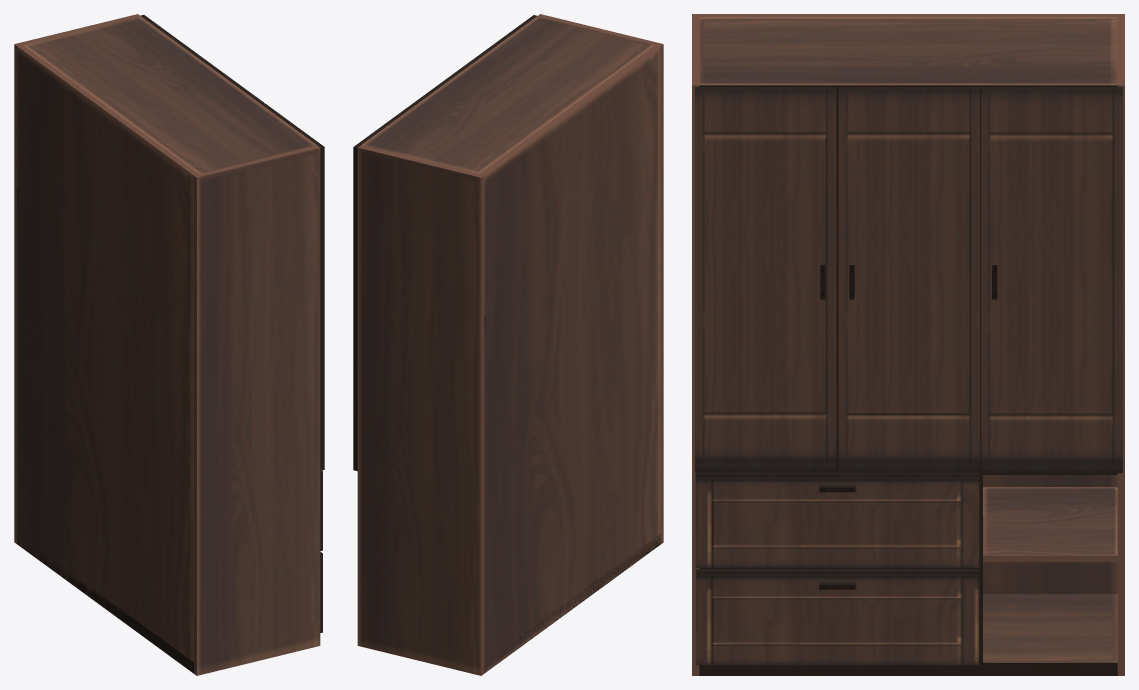
Rendered from closet.fbx.
3 renders of one model, left to right at view 1: azimuth 30°, elevation 25°; view 2: azimuth 150°, elevation 25°; view 3: azimuth 270°, elevation 25°, orthographic. The views are drawn at different scales.
Visible parts, largest first — view 1: closet.001; view 2: closet.001; view 3: closet.001.
Boxes of the visible parts, x1=… form: closet.001: x1=14, y1=14, x2=324, y2=675; closet.001: x1=353, y1=14, x2=663, y2=675; closet.001: x1=692, y1=14, x2=1124, y2=675.
Bounding box in the file's own units: 0.6584 × 2.38 × 1.58.
Materials: 1 (1 with a texture image).
